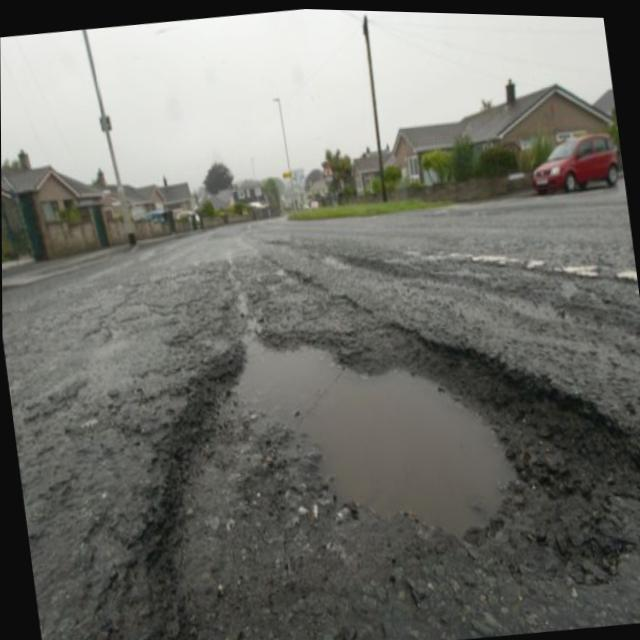Pothole: (133, 307, 640, 640)
